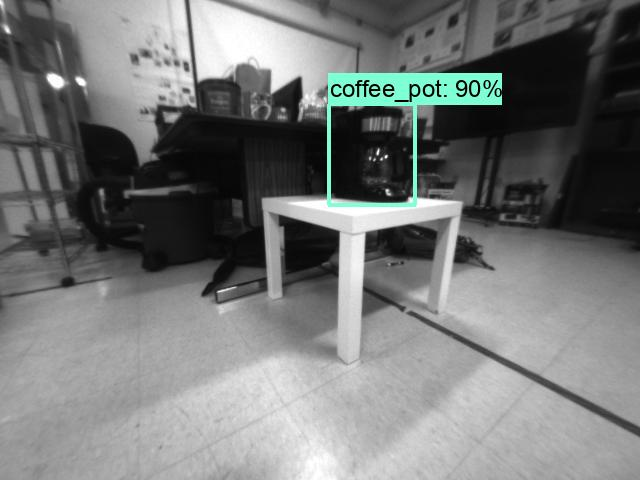coffee_pot: (333, 103, 416, 205)
